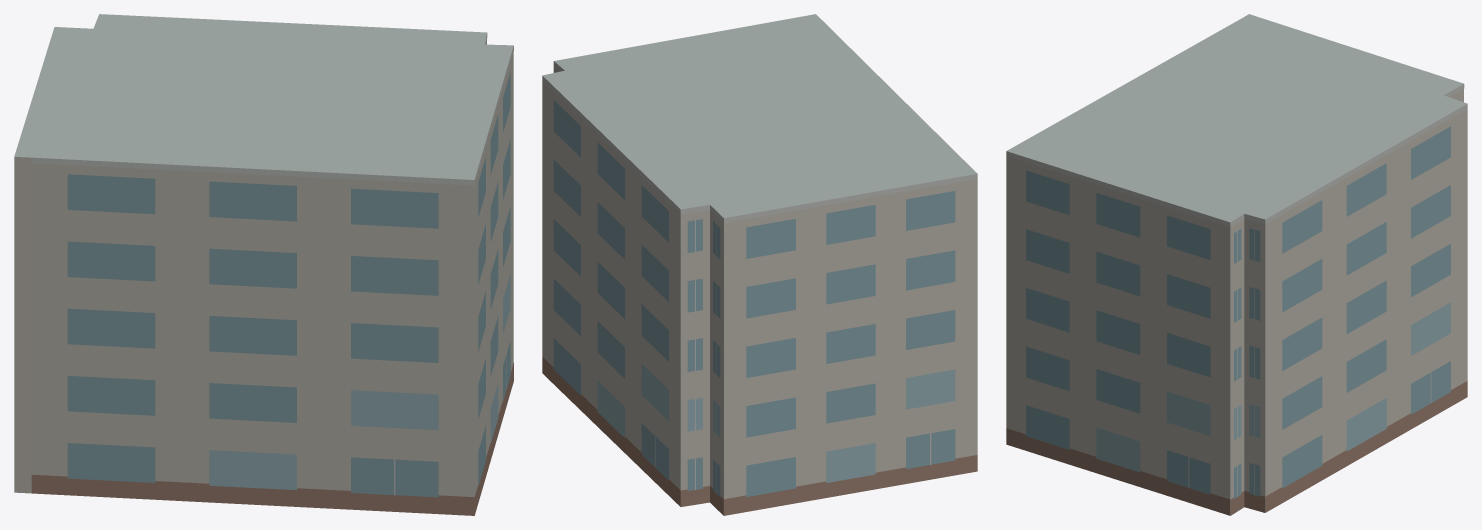
The model's file is survey-upis-32782804.glb.
The picture shows the model from 3 angles, left to right: view 1: azimuth 30°, elevation 25°; view 2: azimuth 150°, elevation 25°; view 3: azimuth 270°, elevation 25°; orthographic projection. The views are drawn at different scales.
Parts seen in each view (by area): view 1: survey-upis-32782804.tmp; view 2: survey-upis-32782804.tmp; view 3: survey-upis-32782804.tmp.
Part boxes in pixels (x1,y1,x2,y2): survey-upis-32782804.tmp: (14, 14, 513, 515); survey-upis-32782804.tmp: (542, 14, 977, 515); survey-upis-32782804.tmp: (1006, 14, 1467, 515).
Bounding box in the file's own units: 22.01 × 14.44 × 20.58.
